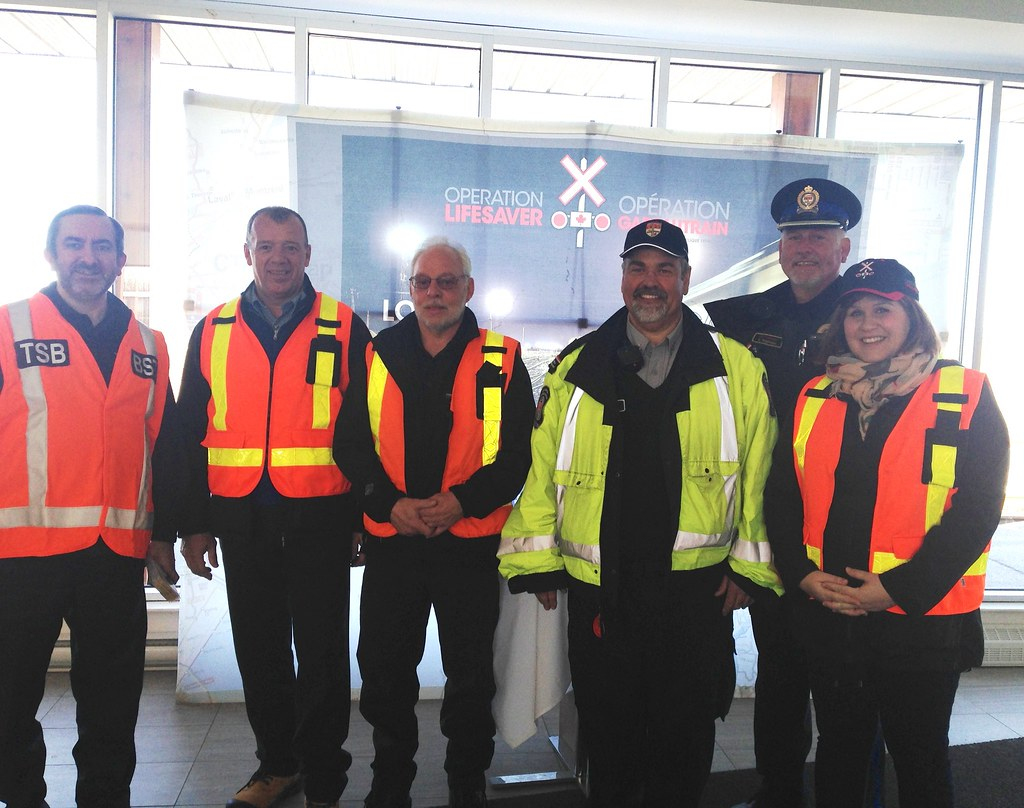Person: (501, 222, 774, 808), (171, 207, 373, 801), (797, 260, 1011, 793), (1, 207, 173, 803), (360, 244, 534, 808), (744, 183, 863, 365)
Vest: (503, 251, 770, 582), (1, 208, 173, 561), (797, 300, 983, 616), (361, 243, 518, 539), (199, 214, 360, 502)
